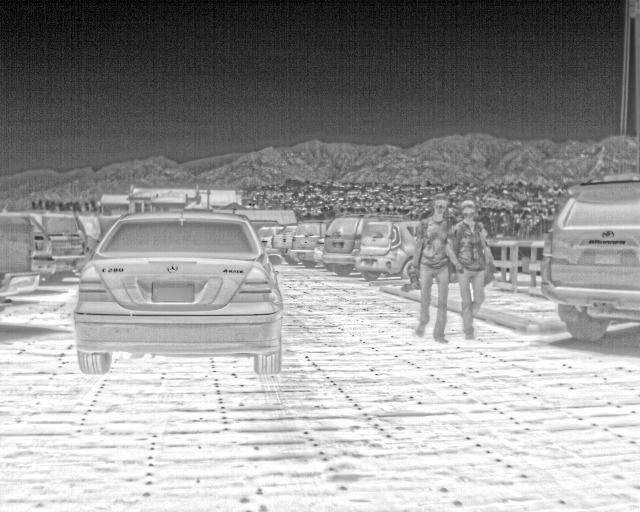bicycle: (74, 208, 286, 374), (538, 171, 638, 341), (22, 210, 92, 286), (0, 213, 52, 294), (357, 219, 420, 282), (324, 218, 368, 274), (290, 220, 326, 269), (273, 221, 302, 267), (255, 224, 282, 263)
empty: (444, 200, 494, 341), (409, 197, 454, 341)
